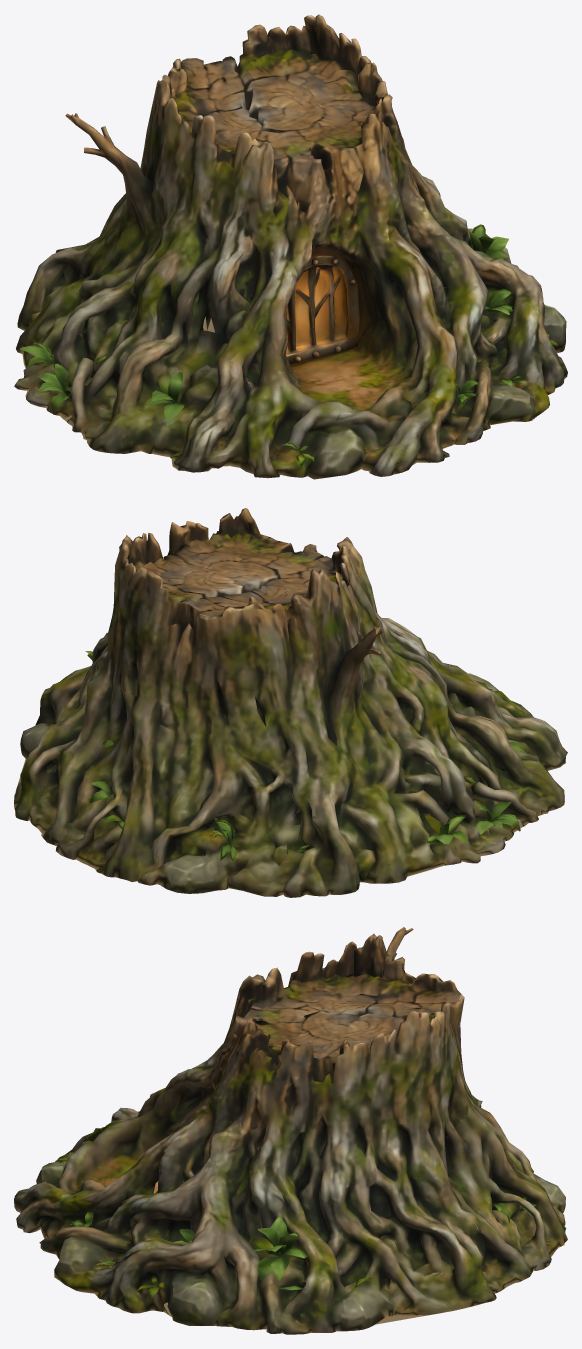
Rendered from dungeon.glb.
3 renders of one model, top to bottom at view 1: azimuth 30°, elevation 25°; view 2: azimuth 150°, elevation 25°; view 3: azimuth 270°, elevation 25°, orthographic. The views are drawn at different scales.
Visible parts, largest first — view 1: geometry_0; view 2: geometry_0; view 3: geometry_0.
Part boxes in pixels (<box>): geometry_0: <box>14,14,567,479</box>; geometry_0: <box>14,508,567,897</box>; geometry_0: <box>14,927,567,1334</box>.
Size of the model in its own units: 0.9136 by 0.4883 by 0.9526.
Materials: 1 (1 with a texture image).
